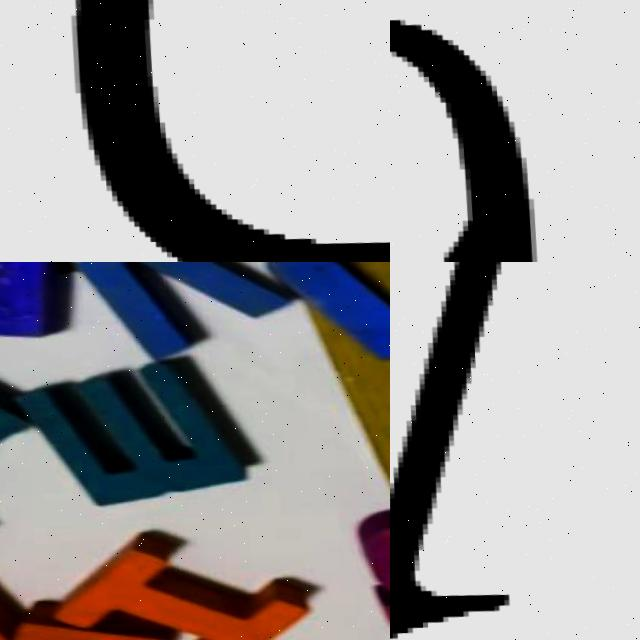1: (390, 262, 640, 640)
6: (390, 0, 564, 262)
D: (53, 0, 390, 262)
E: (1, 607, 170, 640)
I: (38, 521, 306, 640)
J: (257, 262, 390, 361)
M: (28, 355, 271, 511)
S: (355, 483, 390, 636)
V: (47, 262, 295, 365)
